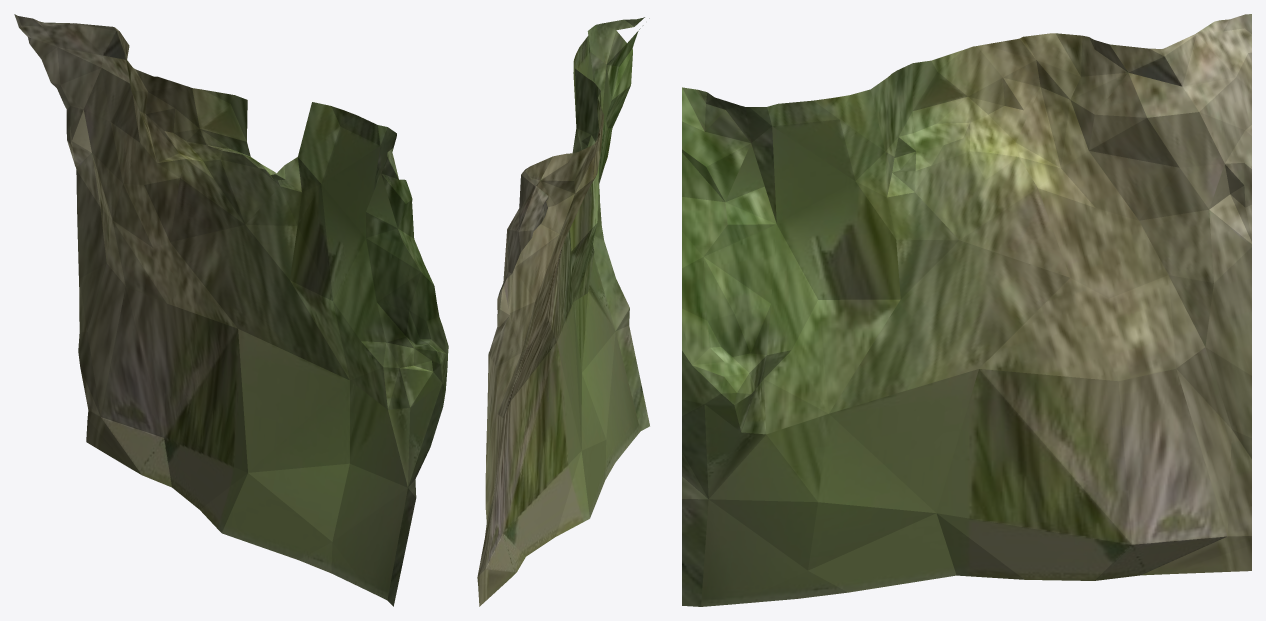
3 views of the same model, side by side, from view 1: azimuth 30°, elevation 25°; view 2: azimuth 150°, elevation 25°; view 3: azimuth 270°, elevation 25° (orthographic). The views are drawn at different scales.
Bounding box in the file's own units: 2.74 × 5.9 × 5.9.
Materials: 3 (3 with a texture image).
